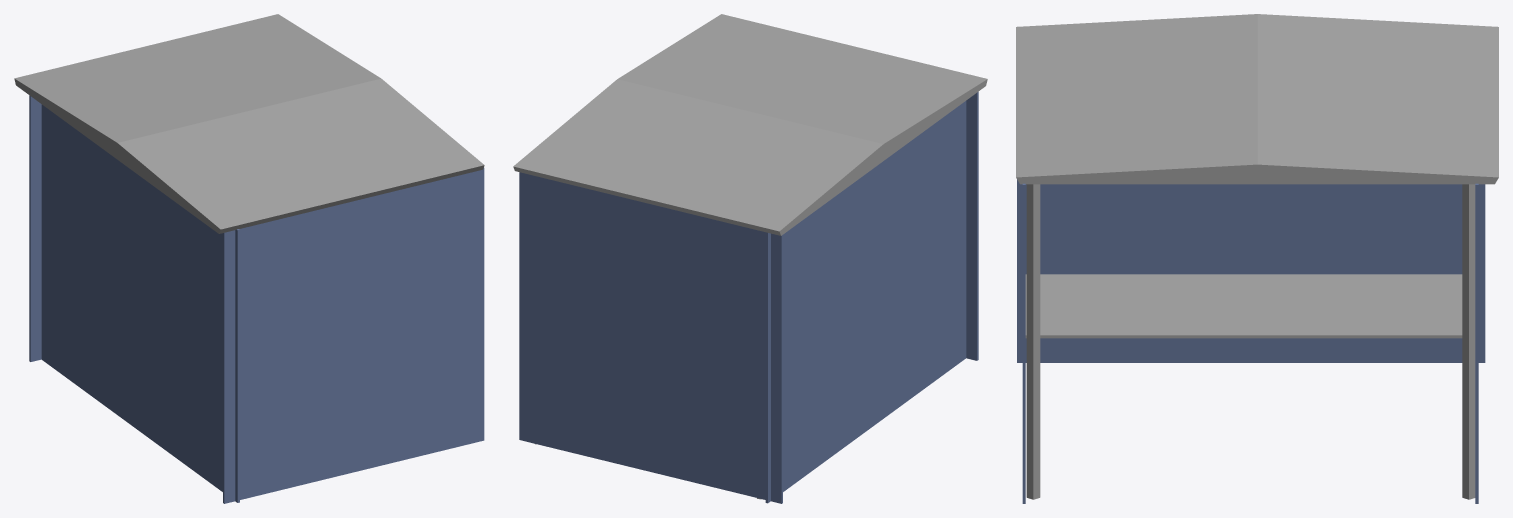
The model's file is BusStopSeat.fbx.
3 renders of one model, left to right at view 1: azimuth 30°, elevation 25°; view 2: azimuth 150°, elevation 25°; view 3: azimuth 270°, elevation 25°, orthographic. The views are drawn at different scales.
Visible parts, largest first — view 1: pCube15, pCylinder24, pCube16, pCube17; view 2: pCube17, pCylinder24, pCube16, pCube15; view 3: pCylinder24, pCube16, pCube18, pCylinder23, pCylinder124, pCube17, pCube15.
Part boxes in pixels (left/top/right/bottom): pCube15: left=223, top=168, right=484, bottom=503; pCylinder24: left=14, top=14, right=484, bottom=233; pCube16: left=41, top=104, right=239, bottom=502; pCube17: left=29, top=95, right=41, bottom=361; pCube17: left=519, top=172, right=782, bottom=503; pCylinder24: left=513, top=14, right=987, bottom=235; pCube16: left=765, top=101, right=966, bottom=503; pCube15: left=966, top=92, right=978, bottom=360; pCylinder24: left=1016, top=14, right=1498, bottom=184; pCube16: left=1017, top=179, right=1485, bottom=362; pCube18: left=1025, top=274, right=1462, bottom=338; pCylinder23: left=1026, top=184, right=1040, bottom=499; pCylinder124: left=1462, top=184, right=1475, bottom=499; pCube17: left=1475, top=183, right=1478, bottom=503; pCube15: left=1022, top=183, right=1025, bottom=503.
Size of the model in its own units: 14.86 by 15.49 by 19.95.
